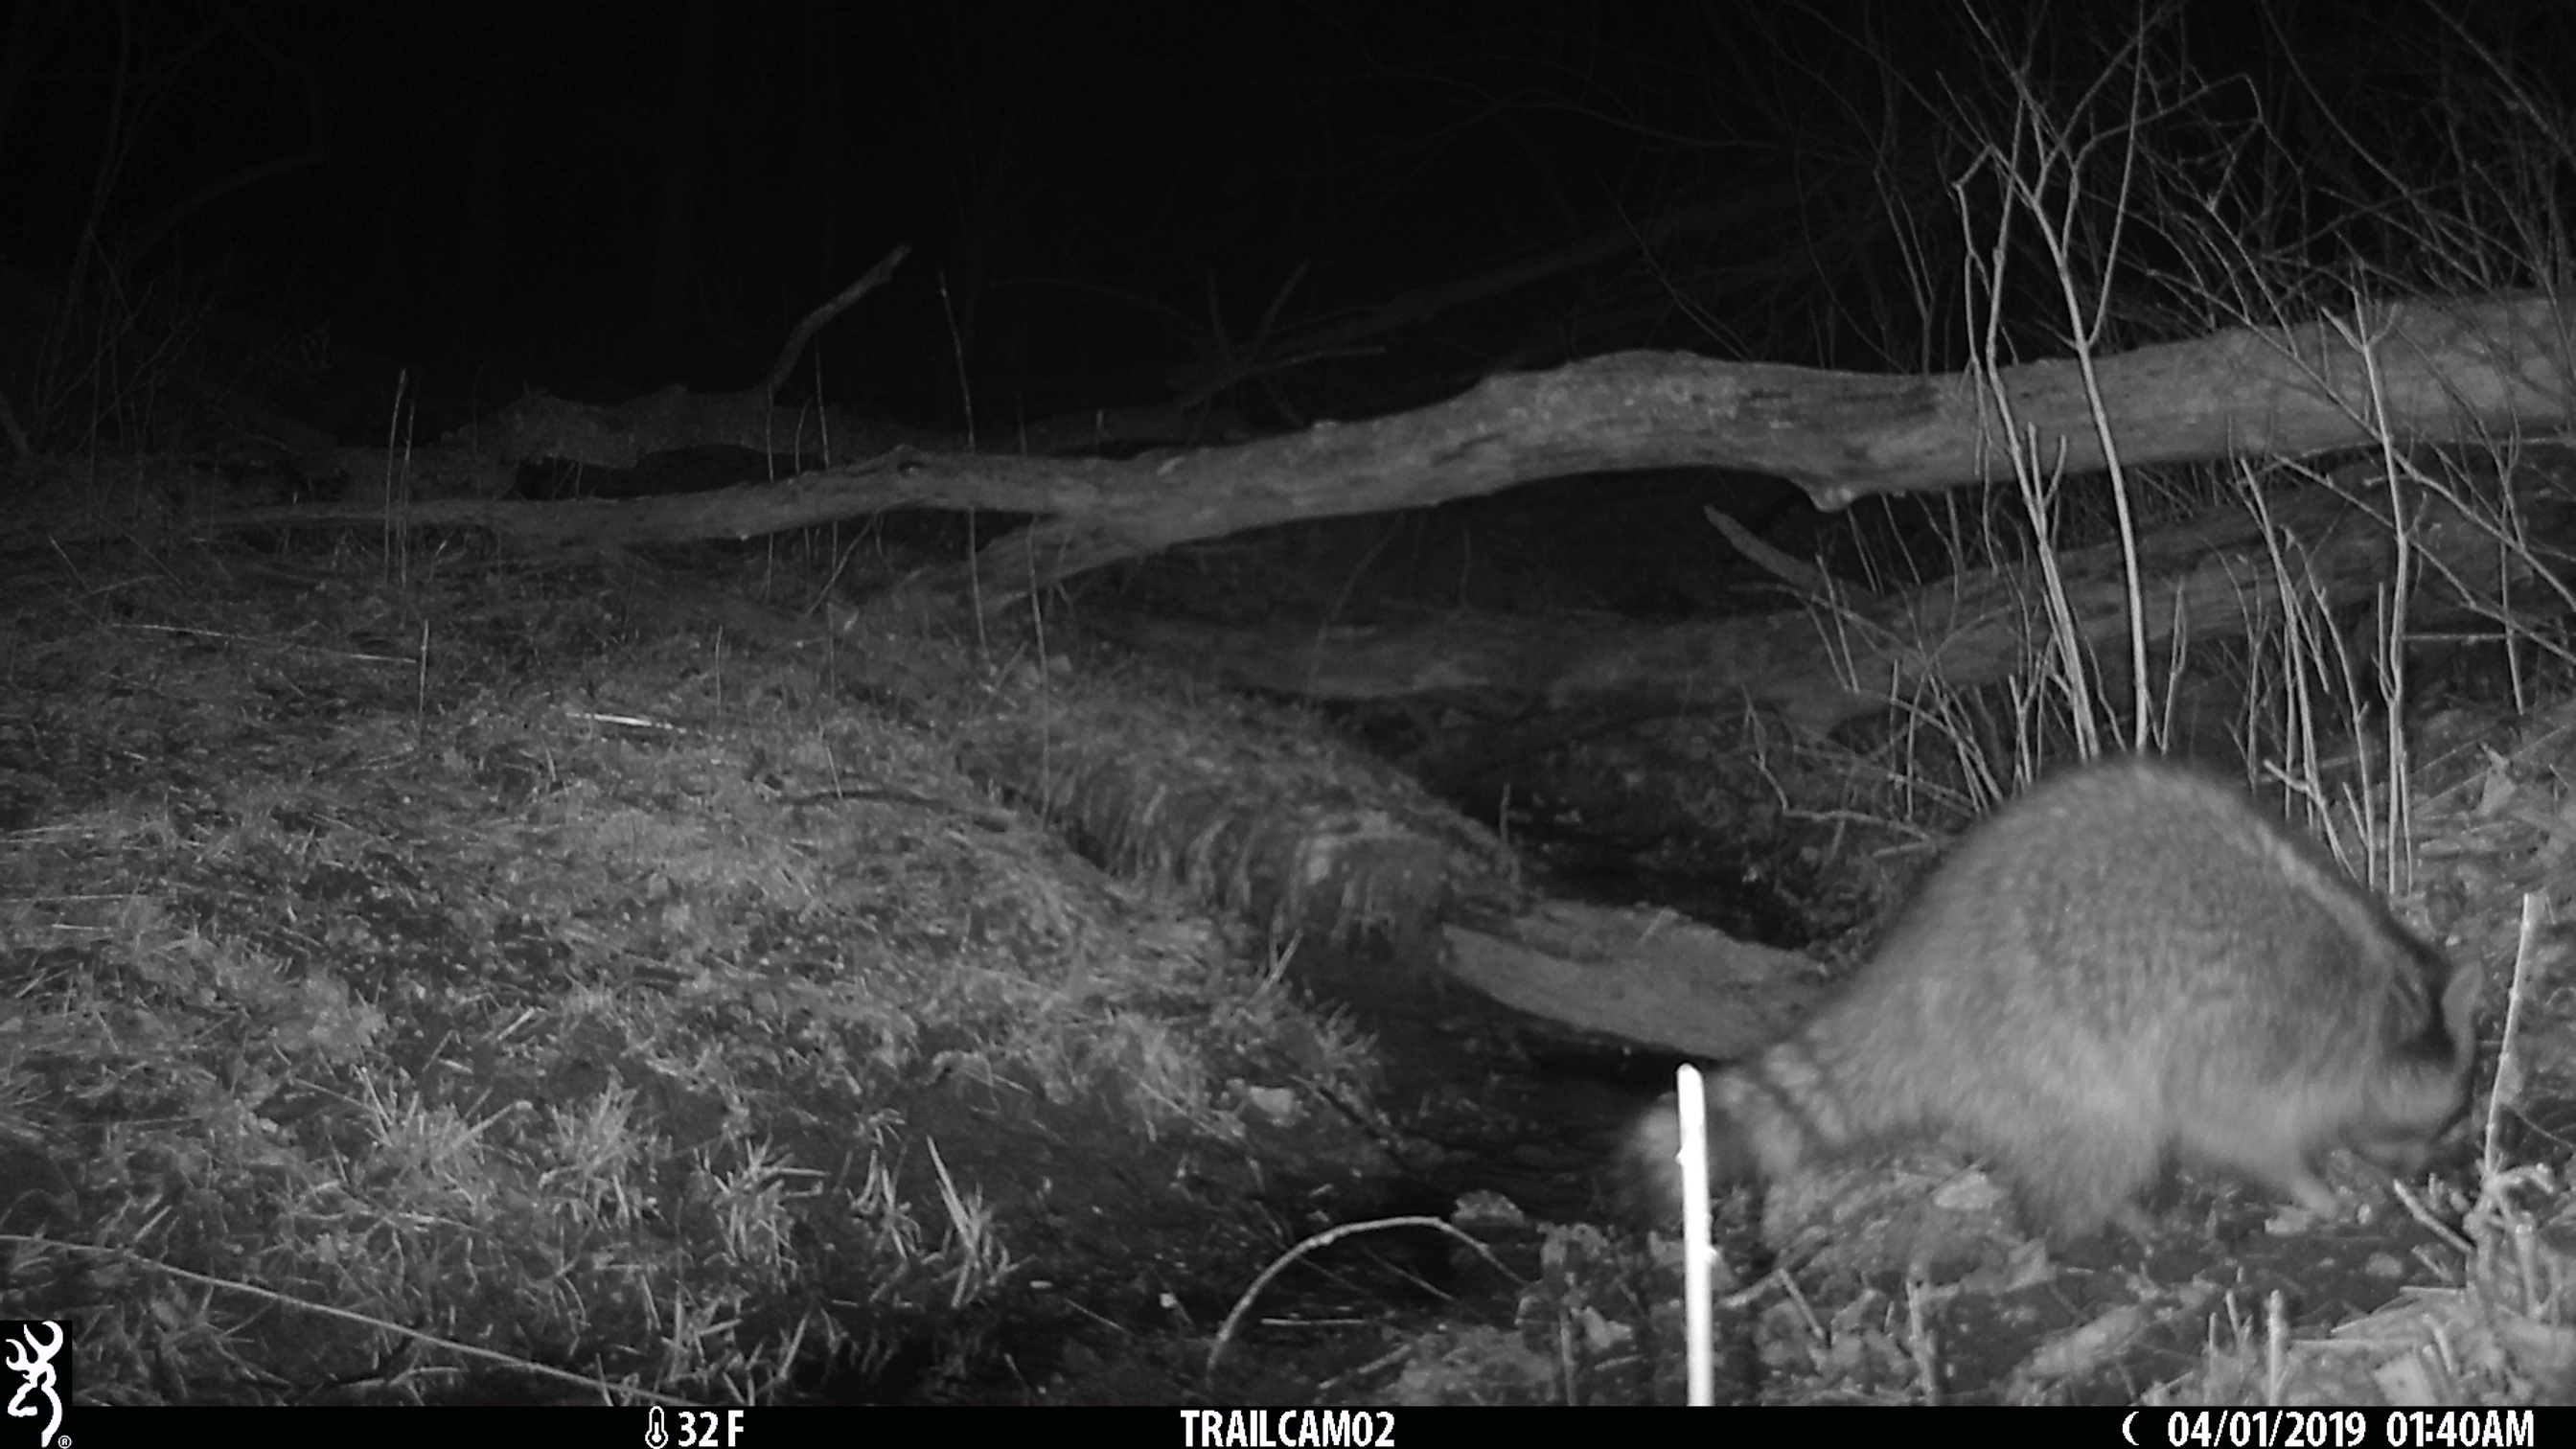Raccoon: (1626, 752, 2489, 1235)
